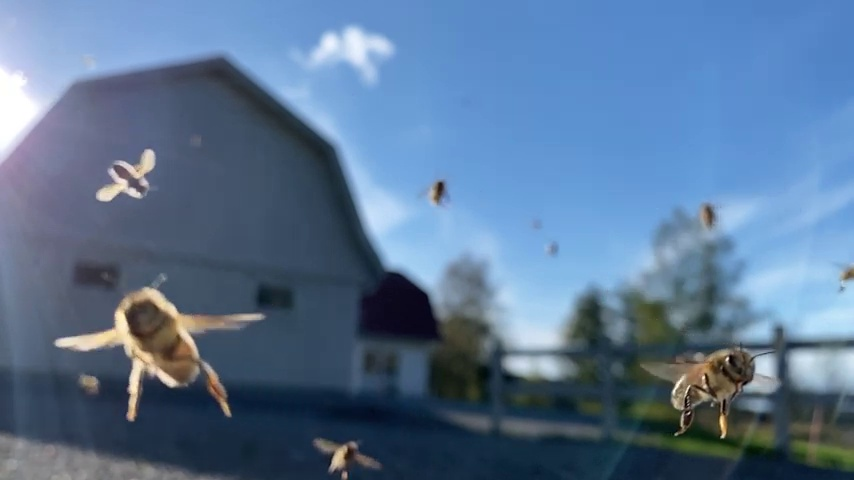insect: (54, 276, 268, 420), (635, 345, 782, 439), (92, 147, 159, 205), (312, 435, 384, 480), (425, 179, 449, 205)
